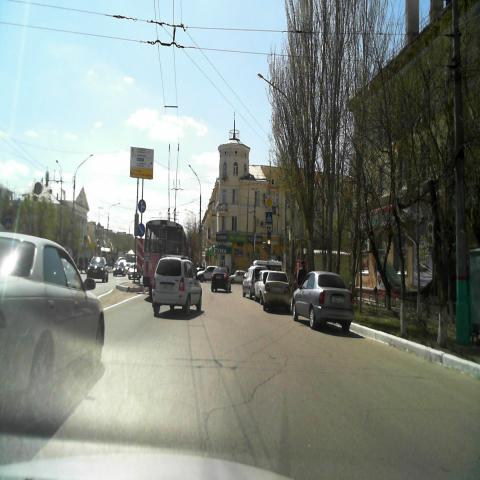4_1_4: (138, 199, 146, 213)
